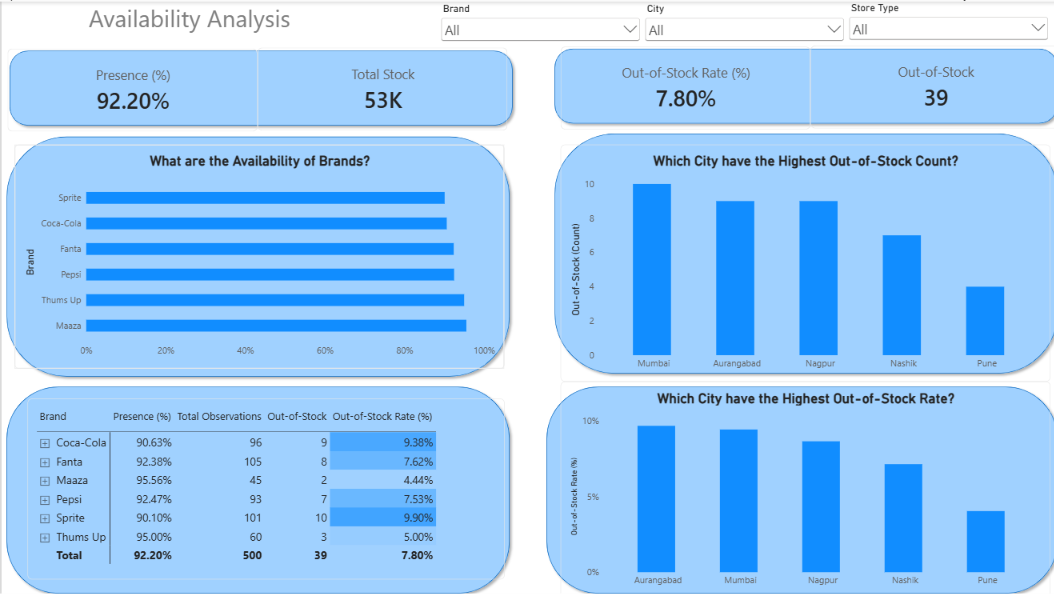

This screenshot's page, from the dashboard's own definition file:
{"tool":"powerbi","page":{"name":"Availability","canvas":[1920,1080],"ordinal":1},"visuals":[{"type":"group","id":"g1","title":"Background","box":[0,76,1920.1,1004.4],"z":0},{"type":"shape","box":[5.4,79.6,928.4,153.8],"z":0,"group":"g1"},{"type":"shape","box":[977.2,687.7,942.8,392.7],"z":500,"group":"g1"},{"type":"textbox","box":[10.9,0,658.7,85.1],"z":1000},{"type":"shape","box":[991.7,76,928.4,153.8],"z":1000,"group":"g1"},{"type":"cardVisual","fields":{"Data":["_Measures.Presence %"]},"box":[10.9,85.1,452,150],"z":2000},{"type":"shape","box":[0,235.3,928.4,452.4],"z":2000,"group":"g1"},{"type":"cardVisual","fields":{"Data":["_Measures.Out-of-Stock_Rate %"]},"box":[1011.6,81.4,452,150],"z":3000},{"type":"shape","box":[991.7,229.8,928.4,452.4],"z":3000,"group":"g1"},{"type":"cardVisual","fields":{"Data":["_Measures.Out-of-Stock_Count"]},"box":[1464,79.6,452,150],"z":4000},{"type":"shape","box":[0,687.7,928.4,392.7],"z":4000,"group":"g1"},{"type":"cardVisual","fields":{"Data":["_Measures.Total_Stock"]},"box":[463.3,83.2,452,150],"z":5000},{"type":"slicer","fields":{"Values":["Product_Dim.Brand"]},"box":[790.8,1.8,369.2,99.5],"z":6000},{"type":"slicer","fields":{"Values":["City_Dim.City"]},"box":[1160,1.8,369.2,99.5],"z":7000},{"type":"slicer","fields":{"Values":["Store_Type_Dim.Store Type"]},"box":[1529.2,0,369.2,99.5],"z":8000},{"type":"columnChart","title":"Which City have the Highest Out-of-Stock Rate?","fields":{"Category":["City_Dim.City"],"Y":["_Measures.Out-of-Stock_Rate %"]},"box":[1011.6,687.7,886.7,392.7],"z":9000},{"type":"pivotTable","title":"Which are the Top Performing City?","fields":{"Rows":["Product_Dim.Brand","Product_Dim.SKU","Store_Dim.Store Name"],"Values":["_Measures.Presence %","_Measures.Total Observations","_Measures.Out-of-Stock_Count","_Measures.Out-of-Stock_Rate %"]},"box":[47.1,718.4,863.2,327.5],"z":10000},{"type":"clusteredColumnChart","title":"Which City have the Highest Out-of-Stock Count?","fields":{"Category":["City_Dim.City"],"Y":["_Measures.Out-of-Stock_Count"]},"box":[1011.6,258.8,886.7,428.9],"z":11000},{"type":"clusteredBarChart","title":"What are the Availability of Brands?","fields":{"Category":["Product_Dim.Brand"],"Y":["_Measures.Presence %"]},"box":[23.5,258.8,886.7,405.4],"z":12000}]}

Visuals, with their boxes in screenshot pixels (x1, y1, x2, y2), scaled from the page's 1920x1080 canvas onto the 1054x594 screenshot:
"Background" group: box(0, 42, 1053, 593)
shape: box(3, 44, 513, 128)
shape: box(536, 378, 1053, 593)
textbox: box(6, 0, 368, 47)
shape: box(544, 42, 1053, 126)
cardVisual - _Measures.Presence %: box(6, 47, 254, 129)
shape: box(0, 129, 510, 378)
cardVisual - _Measures.Out-of-Stock_Rate %: box(555, 45, 803, 127)
shape: box(544, 126, 1053, 375)
cardVisual - _Measures.Out-of-Stock_Count: box(804, 44, 1052, 126)
shape: box(0, 378, 510, 593)
cardVisual - _Measures.Total_Stock: box(254, 46, 502, 128)
slicer - Product_Dim.Brand: box(434, 1, 637, 56)
slicer - City_Dim.City: box(637, 1, 839, 56)
slicer - Store_Type_Dim.Store Type: box(839, 0, 1042, 55)
"Which City have the Highest Out-of-Stock Rate?" columnChart: box(555, 378, 1042, 593)
"Which are the Top Performing City?" pivotTable: box(26, 395, 500, 575)
"Which City have the Highest Out-of-Stock Count?" clusteredColumnChart: box(555, 142, 1042, 378)
"What are the Availability of Brands?" clusteredBarChart: box(13, 142, 500, 365)
